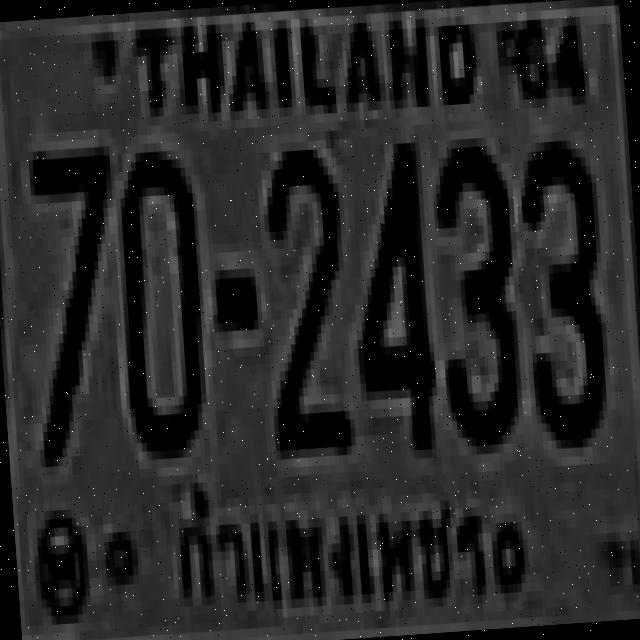0: (108, 140, 208, 452)
2: (256, 138, 353, 450)
3: (512, 130, 608, 442), (428, 136, 520, 438)
4: (343, 133, 435, 444)
7: (22, 138, 124, 458)
KamphaengPhet: (161, 448, 496, 640)
